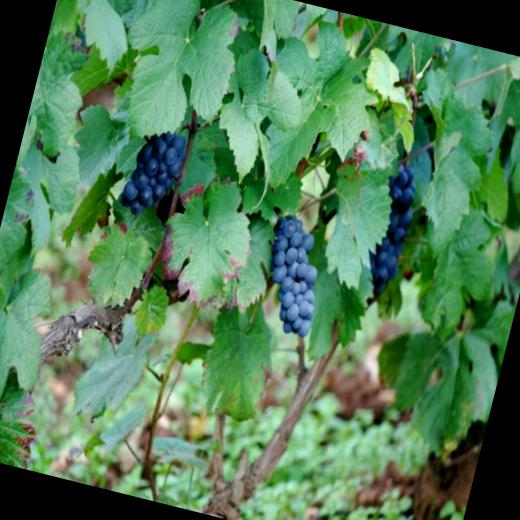Orange: (252, 210, 336, 339), (362, 162, 424, 299), (119, 122, 192, 224)
